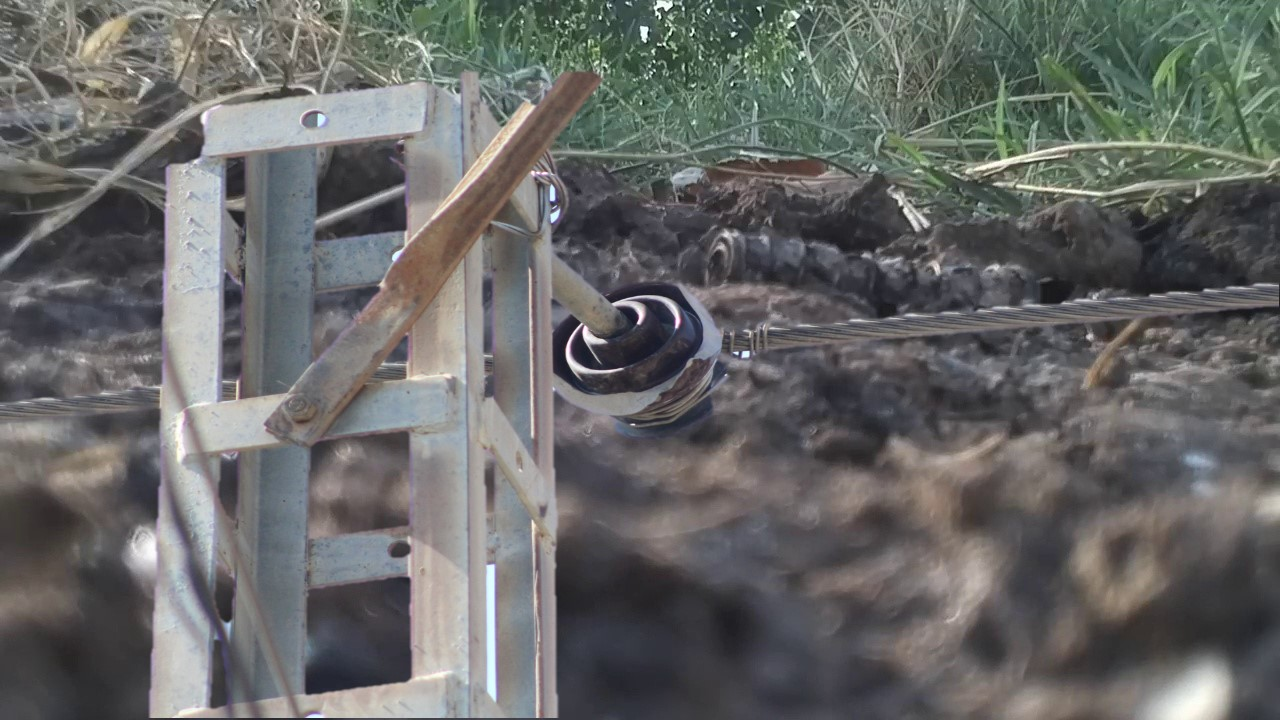defect_pin: (552, 275, 728, 442)
